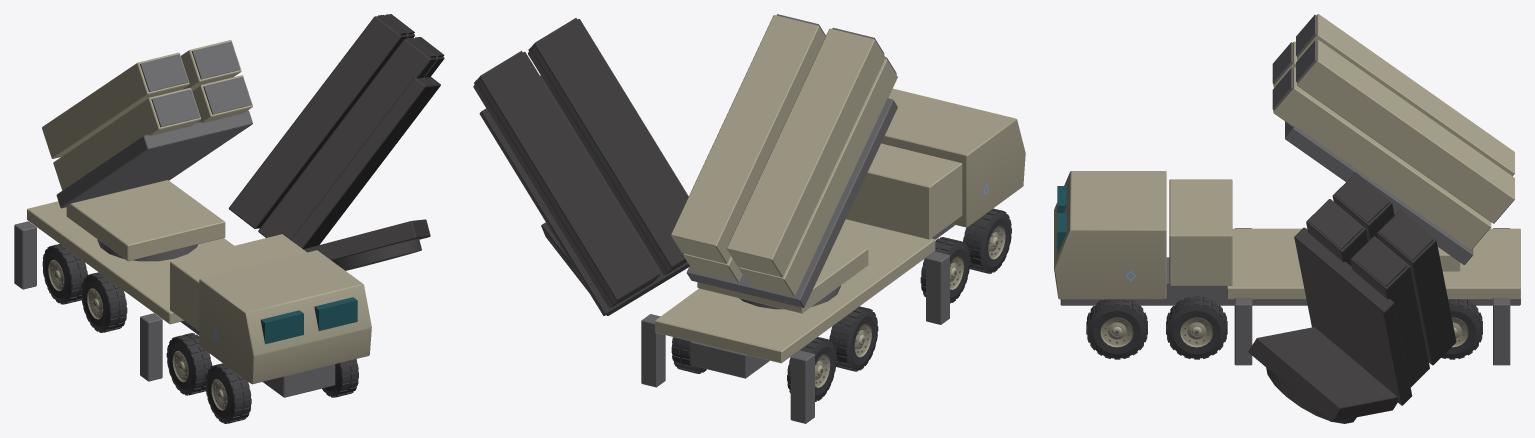
File: abmLauncher__sm_3_pac_3_mse.glb
3 renders of one model, left to right at view 1: azimuth 30°, elevation 25°; view 2: azimuth 150°, elevation 25°; view 3: azimuth 270°, elevation 25°, orthographic. The views are drawn at different scales.
Parts seen in each view (by area): view 1: Hull_Mesh, Wreck, Gun_Mesh, Turret_Mesh, Wheel_L1_Mesh, Wheel_L3_Mesh, Wheel_L2_Mesh, Wheel_L0_Mesh, Wheel_R3_Mesh; view 2: Gun_Mesh, Hull_Mesh, Wreck, Turret_Mesh, Wheel_L3_Mesh, Wheel_L1_Mesh, Wheel_L2_Mesh, Wheel_L0_Mesh, Wheel_R0_Mesh; view 3: Hull_Mesh, Wreck, Gun_Mesh, Wheel_R2_Mesh, Wheel_R3_Mesh, Wheel_R0_Mesh.
Boxes of the visible parts, bbox=[...] form: Hull_Mesh: bbox=[14, 201, 371, 397]; Wreck: bbox=[95, 14, 444, 423]; Gun_Mesh: bbox=[42, 40, 252, 208]; Turret_Mesh: bbox=[66, 180, 225, 261]; Wheel_L1_Mesh: bbox=[81, 272, 127, 332]; Wheel_L3_Mesh: bbox=[205, 363, 251, 423]; Wheel_L2_Mesh: bbox=[166, 333, 212, 395]; Wheel_L0_Mesh: bbox=[42, 244, 87, 304]; Wheel_R3_Mesh: bbox=[322, 359, 358, 397]; Gun_Mesh: bbox=[671, 14, 897, 307]; Hull_Mesh: bbox=[641, 88, 1025, 423]; Wreck: bbox=[473, 18, 989, 372]; Turret_Mesh: bbox=[697, 240, 868, 313]; Wheel_L3_Mesh: bbox=[963, 208, 1011, 273]; Wheel_L1_Mesh: bbox=[829, 306, 878, 371]; Wheel_L2_Mesh: bbox=[920, 237, 970, 303]; Wheel_L0_Mesh: bbox=[787, 337, 836, 401]; Wheel_R0_Mesh: bbox=[671, 337, 706, 373]; Hull_Mesh: bbox=[1054, 171, 1520, 365]; Wreck: bbox=[1119, 172, 1456, 423]; Gun_Mesh: bbox=[1272, 14, 1514, 264]; Wheel_R2_Mesh: bbox=[1166, 296, 1227, 359]; Wheel_R3_Mesh: bbox=[1086, 299, 1147, 359]; Wheel_R0_Mesh: bbox=[1441, 299, 1482, 359].
Size of what is drawn, in the model's own units: 7.99 by 5.86 by 8.5.
